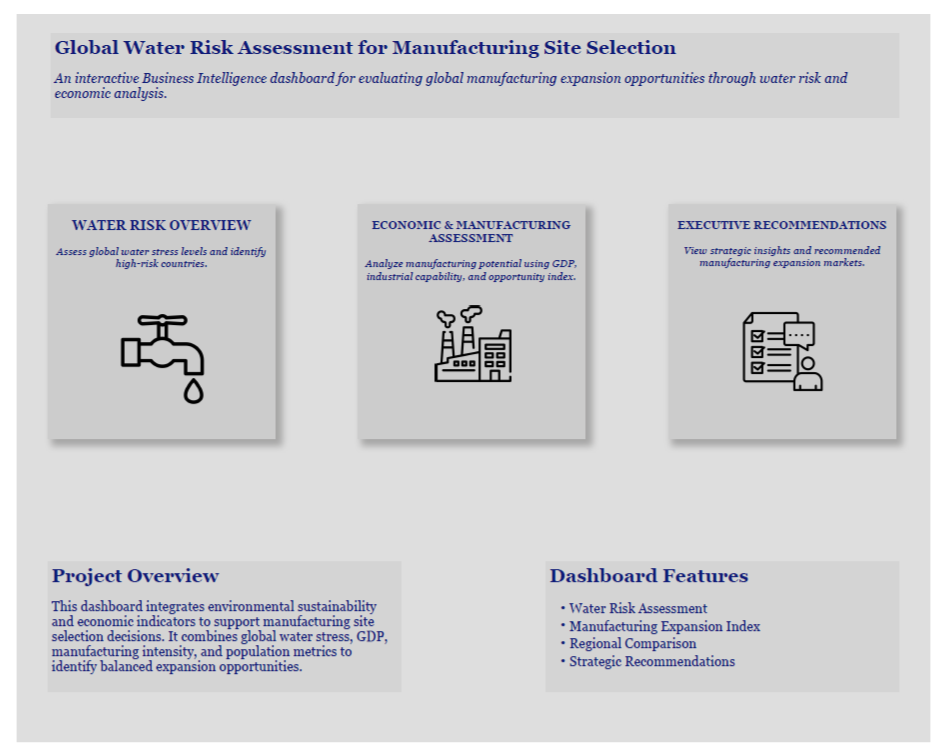

What the dashboard file says about the page in this screenshot:
{"tool":"powerbi","page":{"name":"Page 1","canvas":[1280,1020],"ordinal":0},"visuals":[{"type":"shape","box":[44.4,266.6,317.9,328.2],"z":0,"group":"g1"},{"type":"textbox","box":[47.9,27.3,1187.8,117.9],"z":1000},{"type":"shape","box":[479.4,266.6,317.9,328.2],"z":2000,"group":"g1"},{"type":"shape","box":[914.3,266.6,317.9,328.2],"z":3000,"group":"g1"},{"type":"textbox","box":[44.4,280.3,317.9,128.2],"z":4000,"group":"g1"},{"type":"textbox","box":[478.5,280.3,317.9,128.2],"z":5000,"group":"g1"},{"type":"textbox","box":[914.3,280.3,317.9,107.7],"z":6000,"group":"g1"},{"type":"image","box":[85.4,408.5,237.6,150.4],"z":7000,"group":"g1"},{"type":"image","box":[574.2,408.5,131.6,106],"z":8000,"group":"g1"},{"type":"image","box":[1015.2,408.5,117.9,128.2],"z":8001,"group":"g1"},{"type":"group","id":"g1","title":"Group 1","box":[44.4,266.6,1187.8,328.2],"z":8002},{"type":"textbox","box":[44.4,767.4,493.9,182.9],"z":8003},{"type":"textbox","box":[741.8,767.4,493.9,182.9],"z":8004}]}

Visuals, with their boxes in screenshot pixels (x1, y1, x2, y2), scaled from the page's 1280x1020 canvas onto the 946x756 screenshot:
shape: bbox=[33, 198, 268, 441]
textbox: bbox=[35, 20, 913, 108]
shape: bbox=[354, 198, 589, 441]
shape: bbox=[676, 198, 911, 441]
textbox: bbox=[33, 208, 268, 303]
textbox: bbox=[354, 208, 589, 303]
textbox: bbox=[676, 208, 911, 288]
image: bbox=[63, 303, 239, 414]
image: bbox=[424, 303, 522, 381]
image: bbox=[750, 303, 837, 398]
"Group 1" group: bbox=[33, 198, 911, 441]
textbox: bbox=[33, 569, 398, 704]
textbox: bbox=[548, 569, 913, 704]
